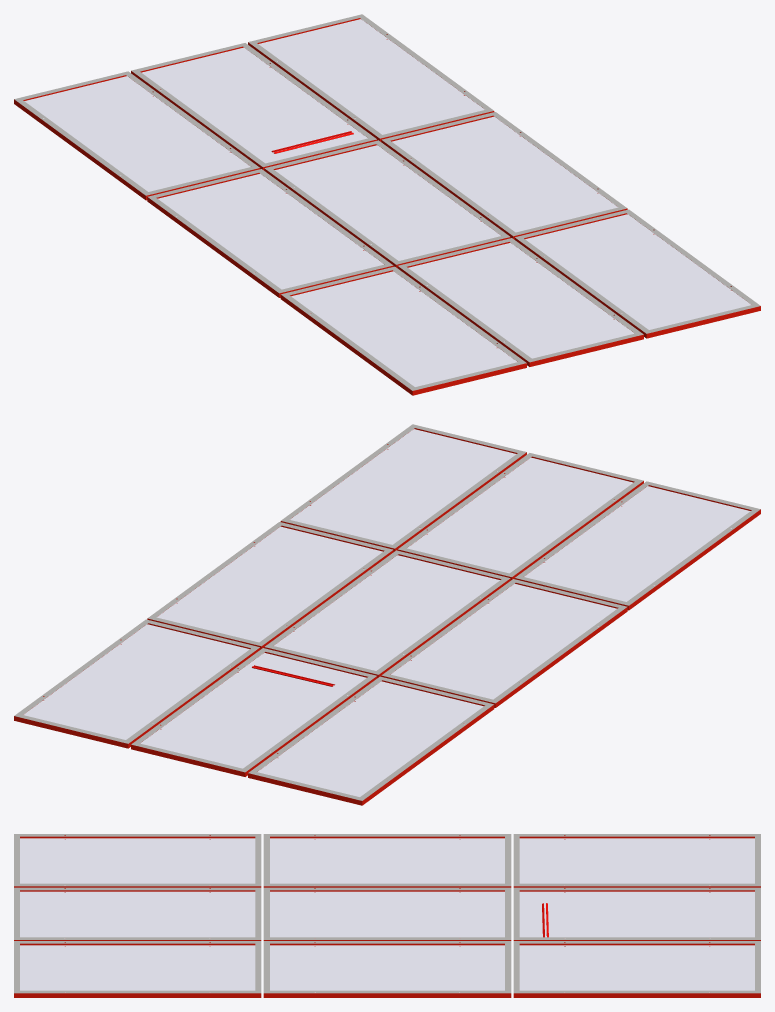
Rendered from panel_with_robot.glb.
The picture shows the model from 3 angles, top to bottom: view 1: azimuth 30°, elevation 25°; view 2: azimuth 150°, elevation 25°; view 3: azimuth 270°, elevation 25°; orthographic projection. The views are drawn at different scales.
Visible parts, largest first — view 1: Solid1; view 2: Solid1; view 3: Solid1.
Boxes of the visible parts, <box> form: Solid1: <box>14,14,760,395</box>; Solid1: <box>14,424,760,805</box>; Solid1: <box>14,834,760,997</box>.
Size of the model in its own units: 5.14 by 0.4656 by 10.2.
